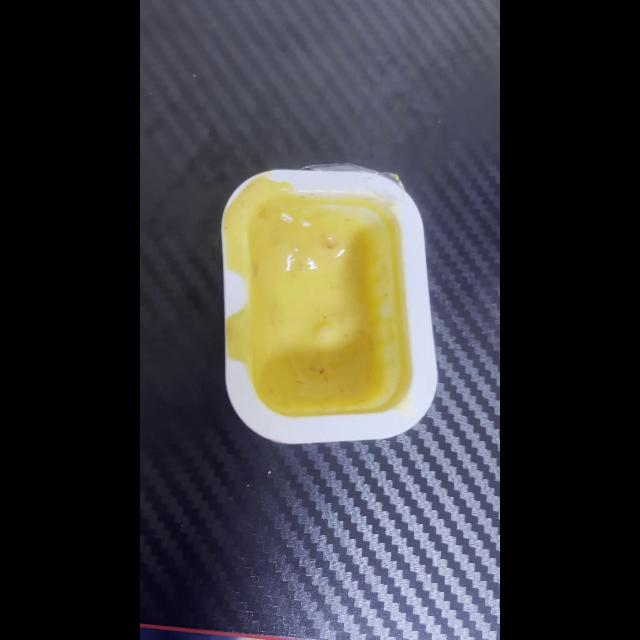dirty: (223, 170, 439, 442)
